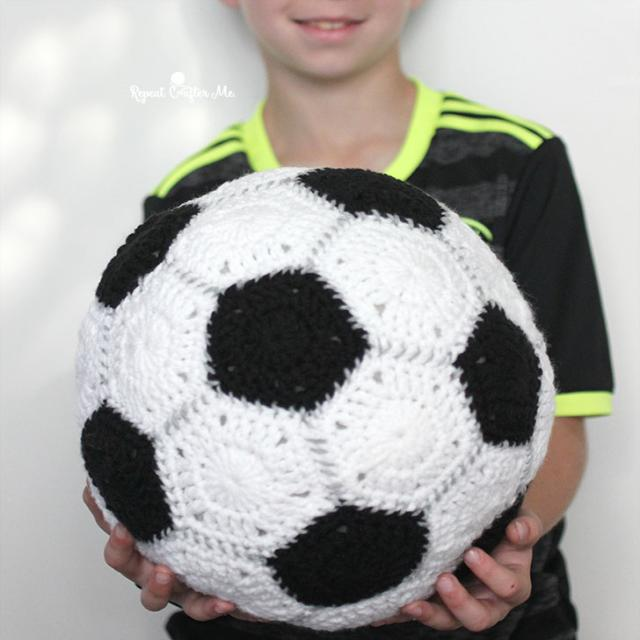soccer ball: (77, 168, 556, 627)
